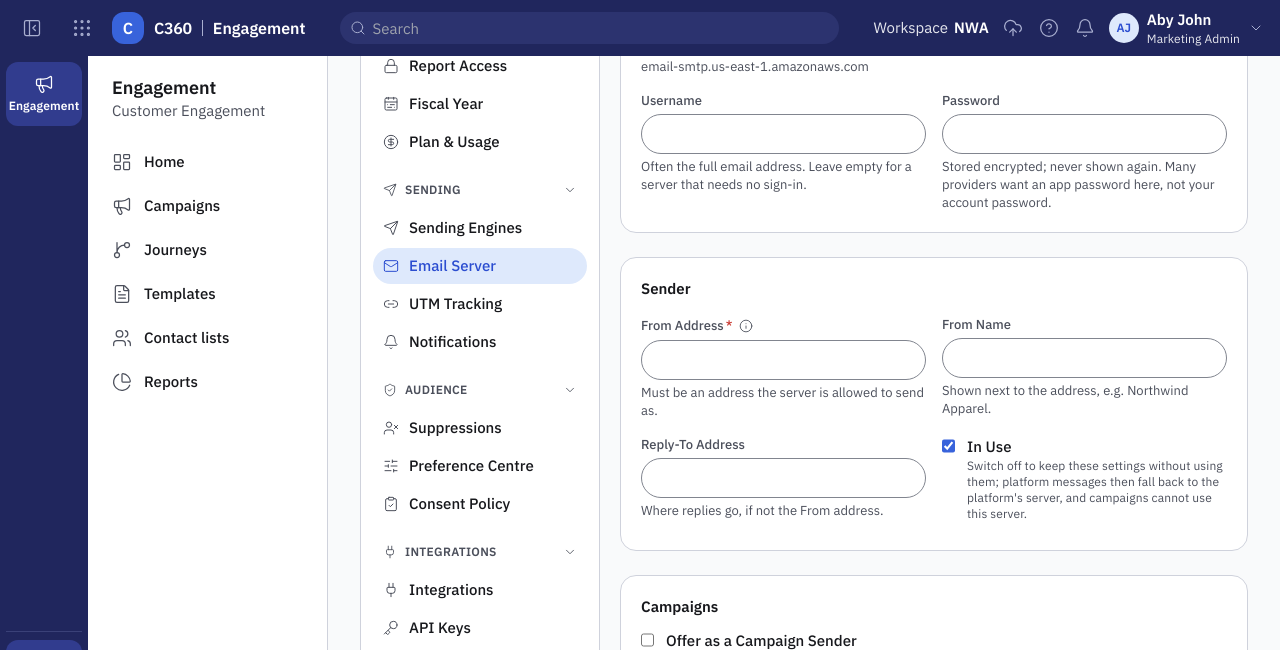
Test: the platform's server is only the fallback: the page says so, offers no way to send through it, and asks for the workspace's own server
(page scrolled)
Type "hello@nwa.example" into the field labelled "From Address*" at (784, 360), box [641, 340, 926, 380]
(page scrolled)
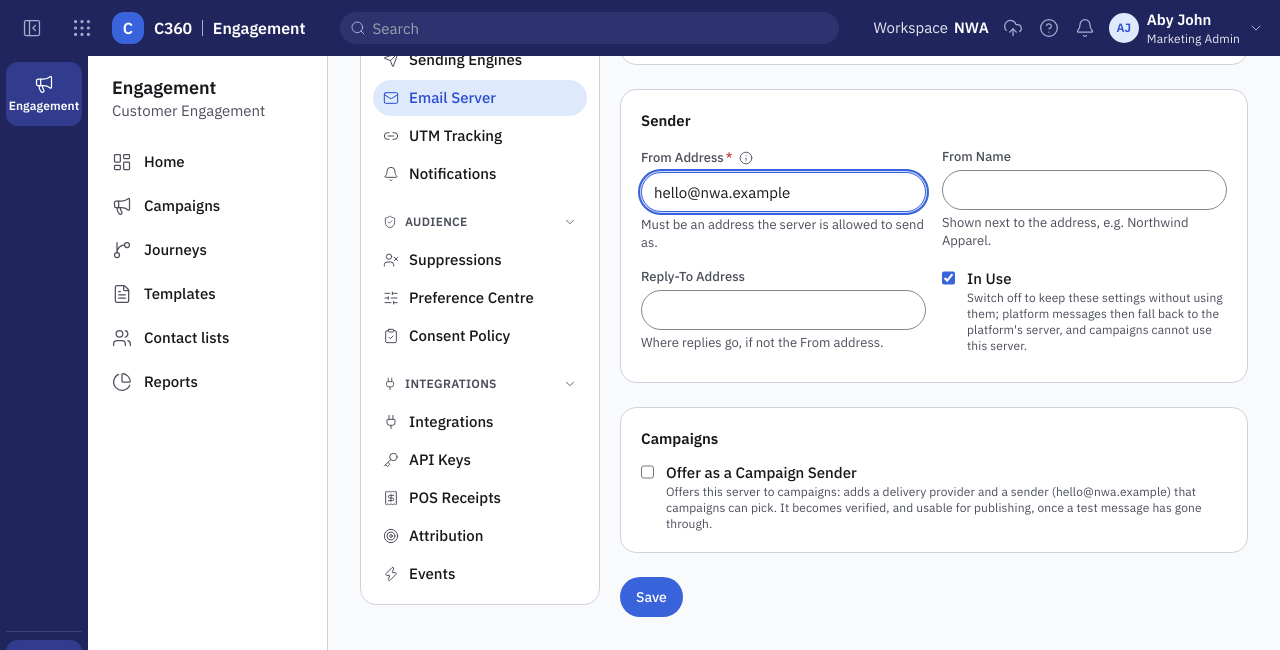
Click the button "Save" at (651, 597), box [620, 577, 683, 617]
(page scrolled)
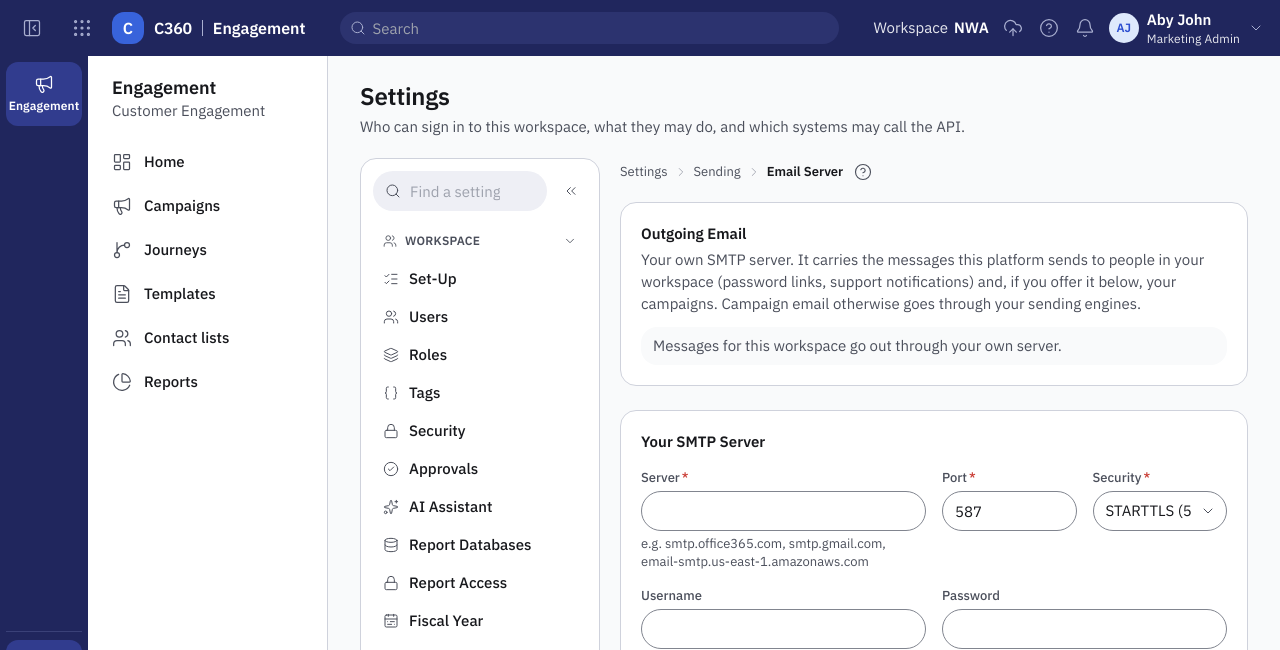
Expected: the text "Messages for this workspace go out through your own server." is shown, [641, 327, 1227, 365]
